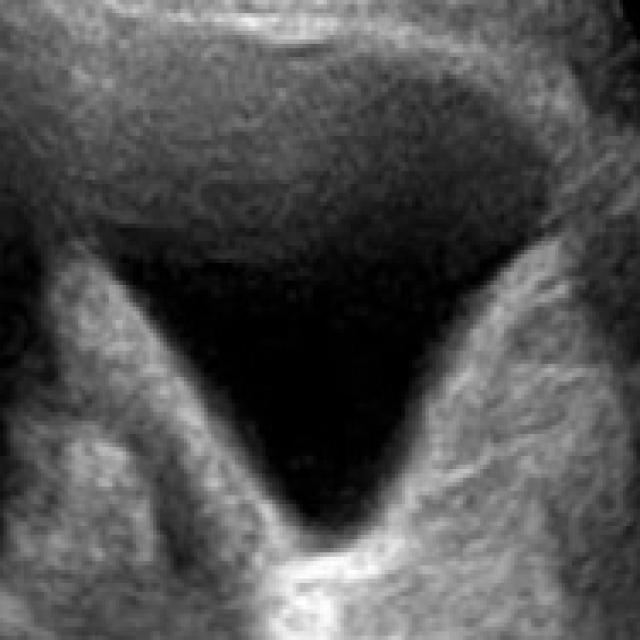bladder: (40, 10, 602, 597)
